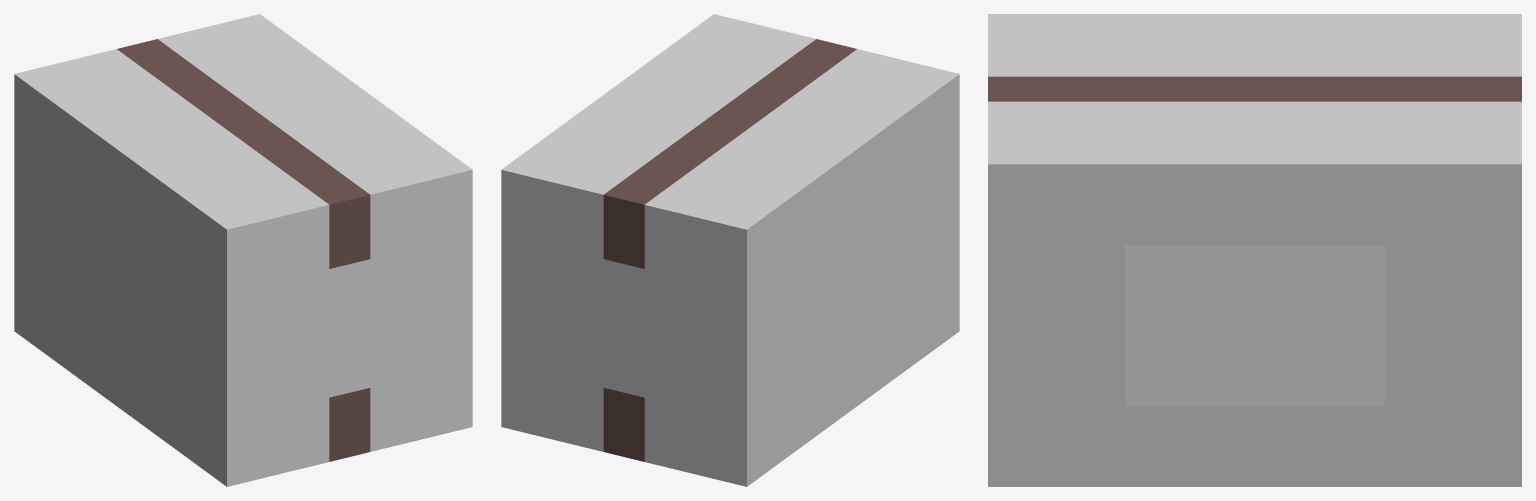
File: SM_Package.fbx
The picture shows the model from 3 angles, left to right: view 1: azimuth 30°, elevation 25°; view 2: azimuth 150°, elevation 25°; view 3: azimuth 270°, elevation 25°; orthographic projection. The views are drawn at different scales.
Parts seen in each view (by area): view 1: Parcel; view 2: Parcel; view 3: Parcel.
Part boxes in pixels (left/top/right/bottom): Parcel: left=14, top=14, right=472, bottom=486; Parcel: left=501, top=14, right=959, bottom=486; Parcel: left=988, top=14, right=1521, bottom=486.
Size of the model in its own units: 20 by 20 by 30.
